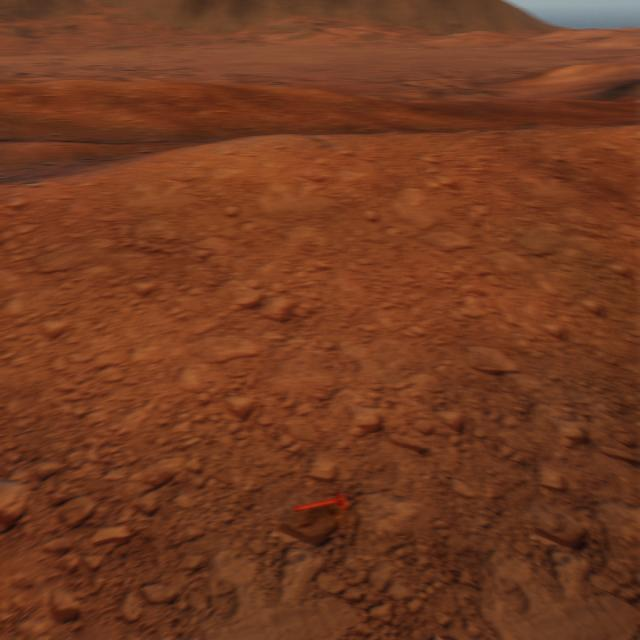newhammer: (294, 489, 347, 512)
